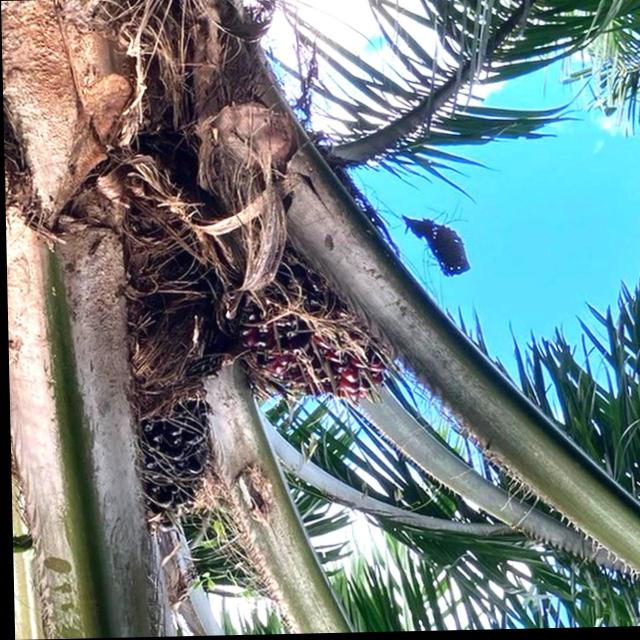ripe: (241, 269, 391, 403)
